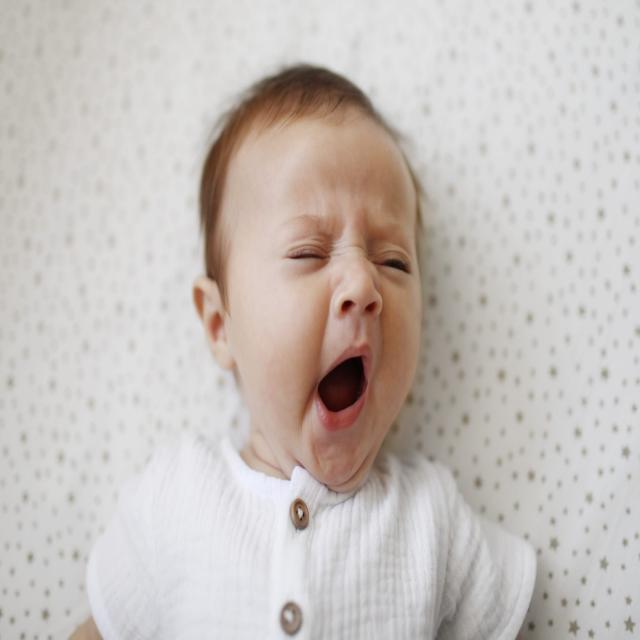non-dog: (68, 61, 535, 640)
